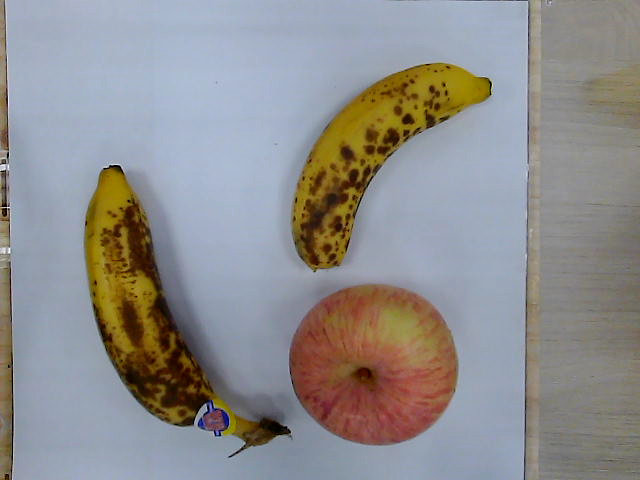fresh_apple: (290, 284, 461, 444)
rotten_banana: (84, 164, 289, 450), (292, 63, 490, 272)
